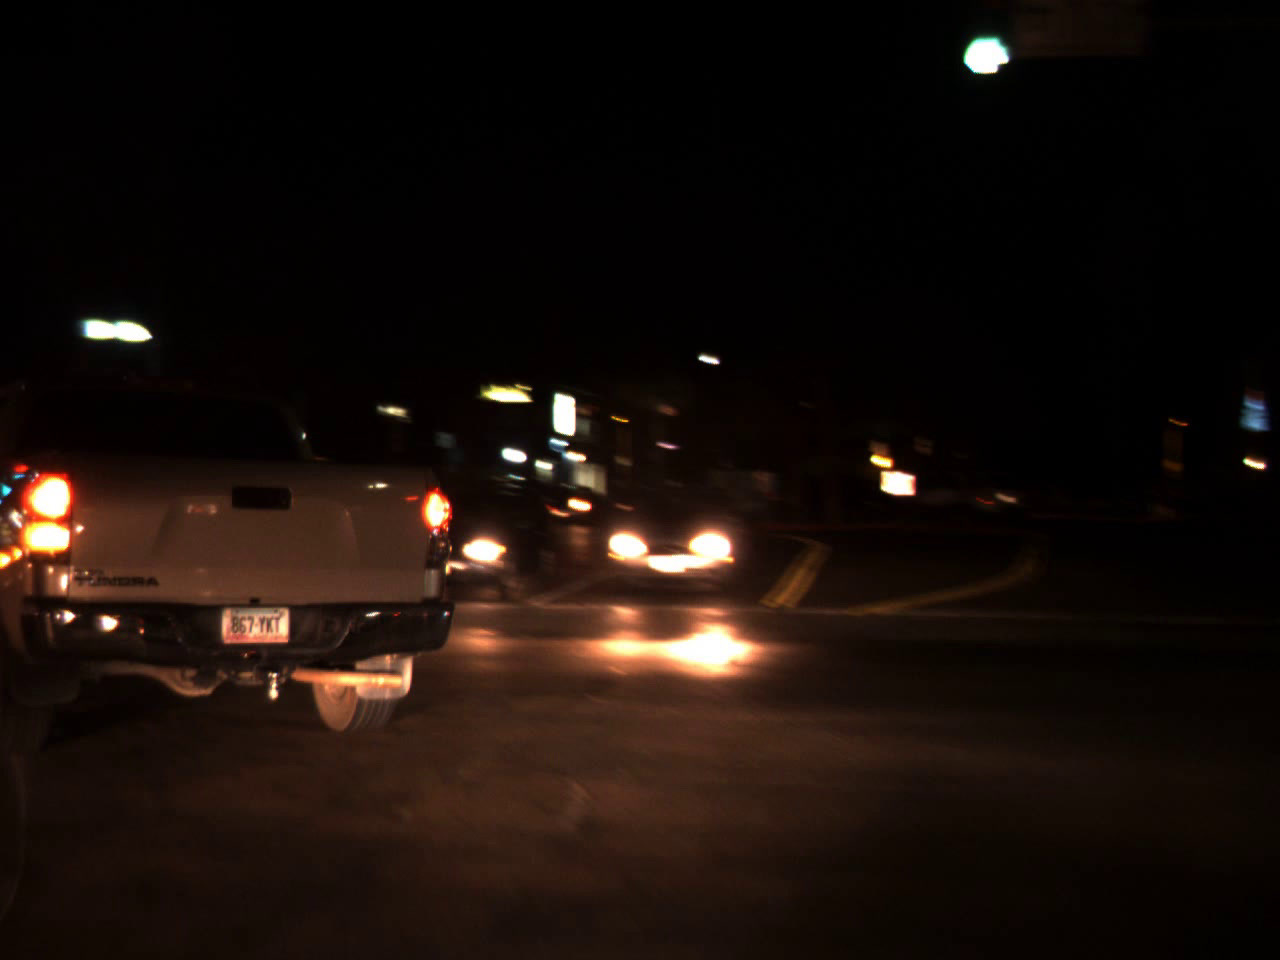go: (935, 0, 1026, 93)
